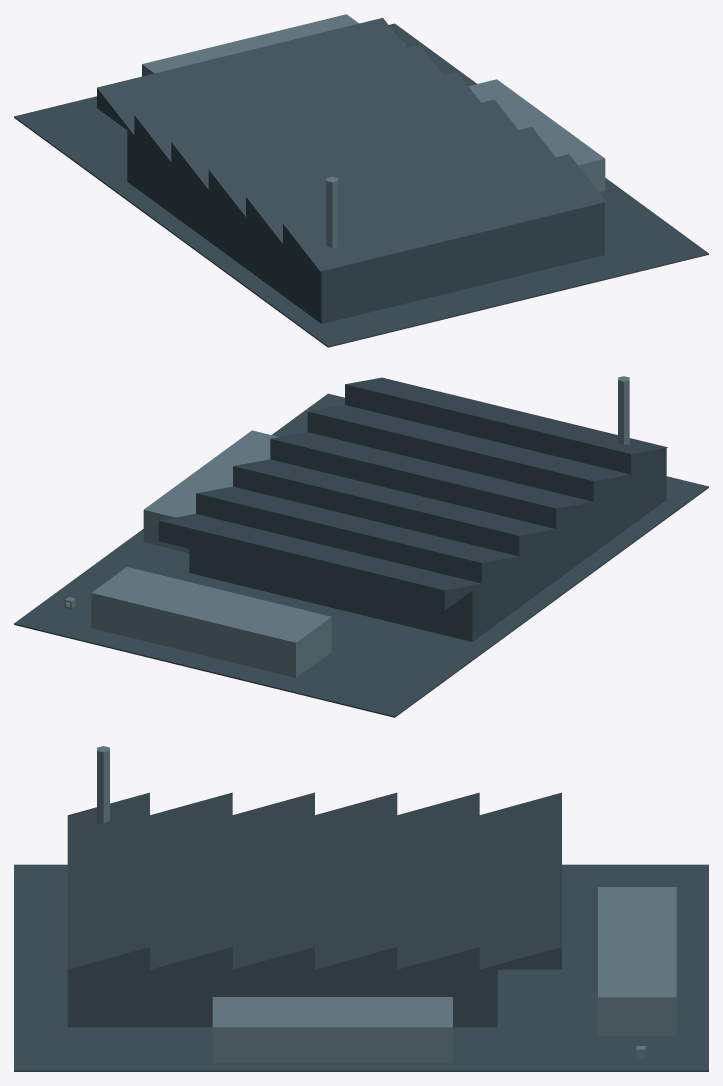
File: factory_industrial_facility.lod2.glb
3 renders of one model, top to bottom at view 1: azimuth 30°, elevation 25°; view 2: azimuth 150°, elevation 25°; view 3: azimuth 270°, elevation 25°, orthographic. The views are drawn at different scales.
Visible parts, largest first — view 1: factory_industrial_facility_graphite.002, factory_industrial_facility_graphite_light.002; view 2: factory_industrial_facility_graphite.002, factory_industrial_facility_graphite_light.002; view 3: factory_industrial_facility_graphite.002, factory_industrial_facility_graphite_light.002.
Part boxes in pixels (left/top/right/bottom): factory_industrial_facility_graphite.002: left=14, top=18, right=708, bottom=347; factory_industrial_facility_graphite_light.002: left=142, top=14, right=605, bottom=248; factory_industrial_facility_graphite.002: left=14, top=377, right=708, bottom=717; factory_industrial_facility_graphite_light.002: left=64, top=376, right=629, bottom=677; factory_industrial_facility_graphite.002: left=14, top=792, right=708, bottom=1071; factory_industrial_facility_graphite_light.002: left=97, top=746, right=676, bottom=1062.
Bounding box in the file's own units: 136 × 43.5 × 194.
